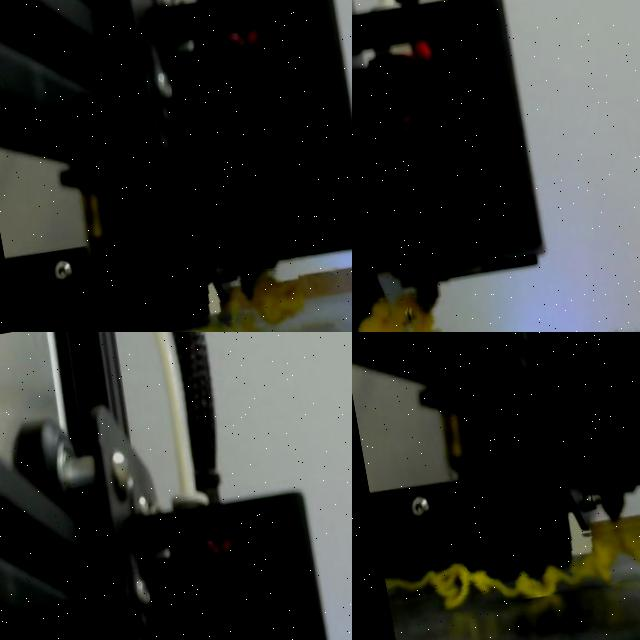spaghetti: (384, 524, 640, 608), (183, 271, 301, 332)
